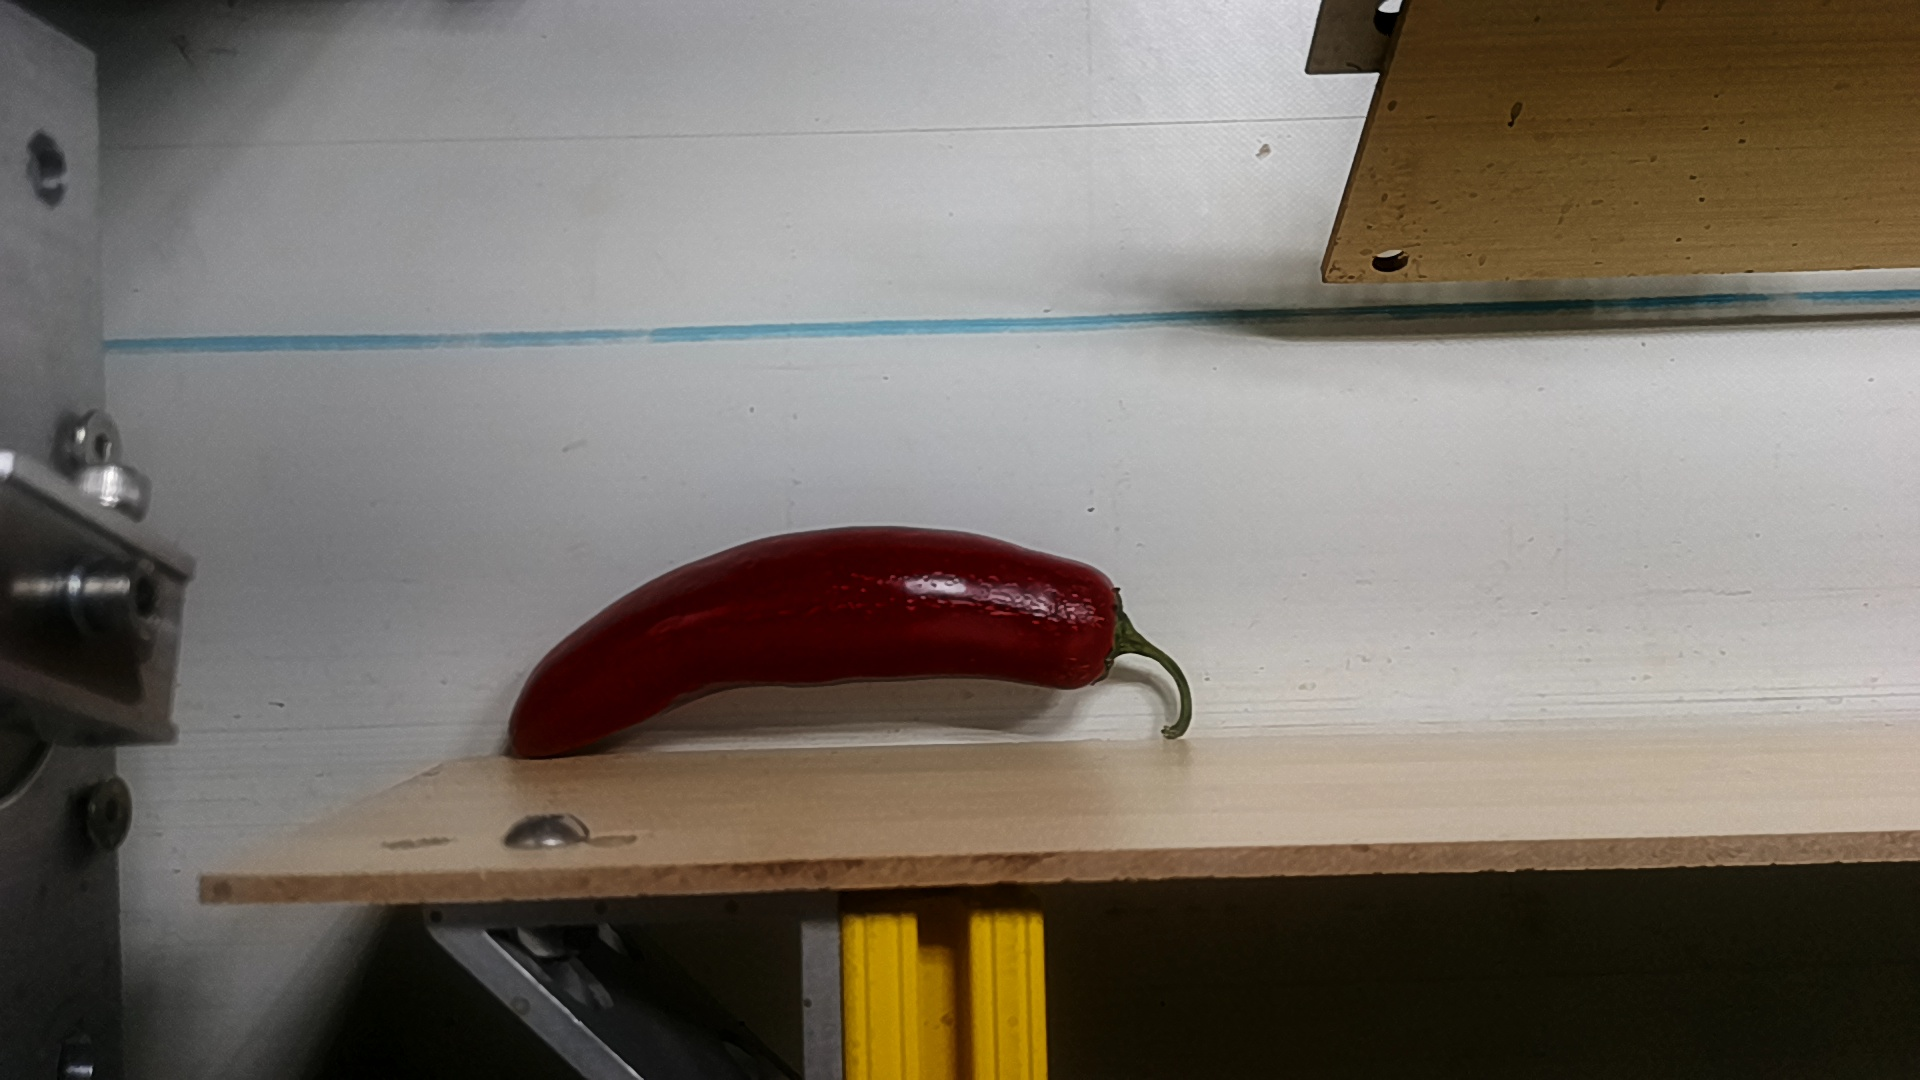Cut Point: (1065, 559, 1149, 699)
